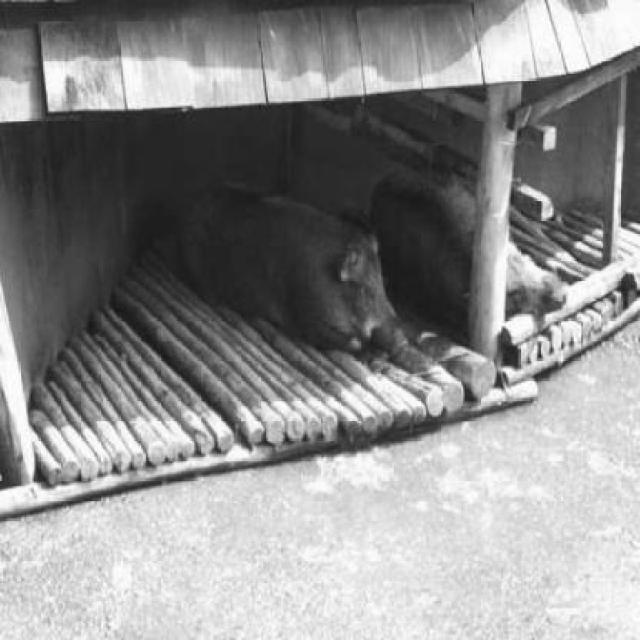Boar: (156, 164, 427, 418), (389, 163, 608, 391)
